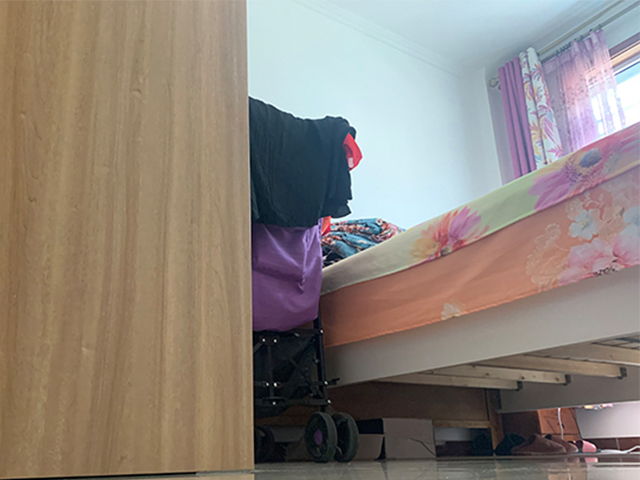bed: (316, 121, 640, 458)
slippers: (470, 431, 598, 459)
wire: (598, 444, 640, 458)
